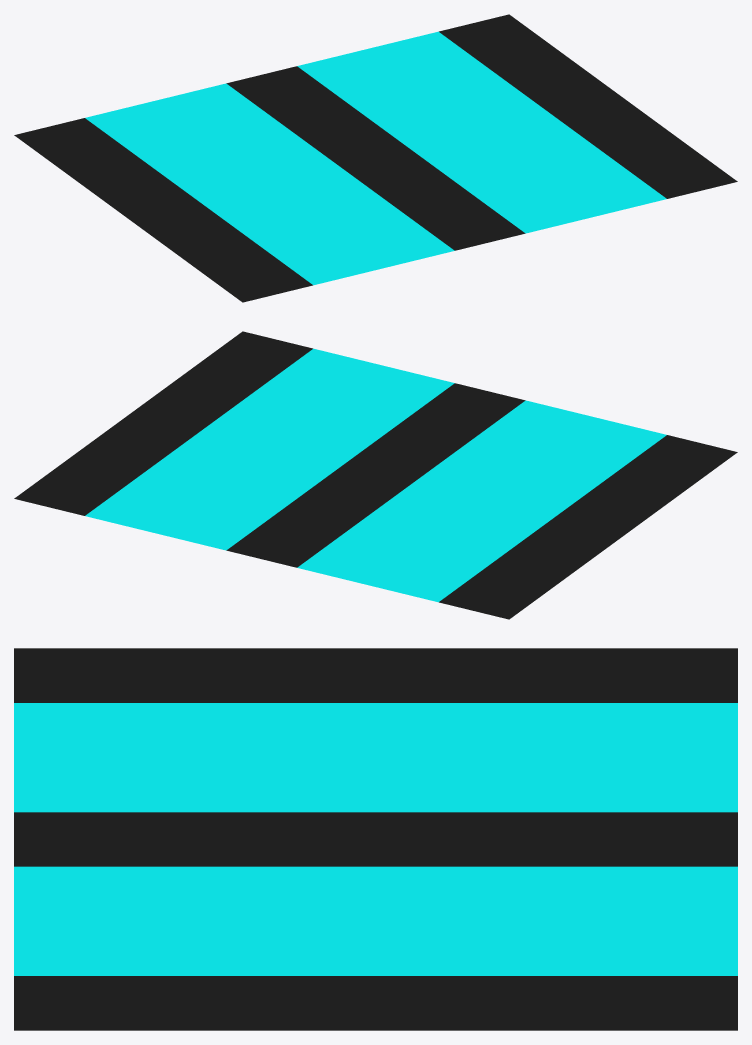
The model's file is RaceTrack_Straight_4m 1.fbx.
The picture shows the model from 3 angles, top to bottom: view 1: azimuth 30°, elevation 25°; view 2: azimuth 150°, elevation 25°; view 3: azimuth 270°, elevation 25°; orthographic projection. The views are drawn at different scales.
Parts seen in each view (by area): view 1: Straight_4m; view 2: Straight_4m; view 3: Straight_4m.
Part boxes in pixels (bbox=[...]): Straight_4m: bbox=[14, 14, 737, 302]; Straight_4m: bbox=[14, 331, 737, 619]; Straight_4m: bbox=[14, 648, 737, 1030].
Bounding box in the file's own units: 5 × 3.5e-07 × 4.
